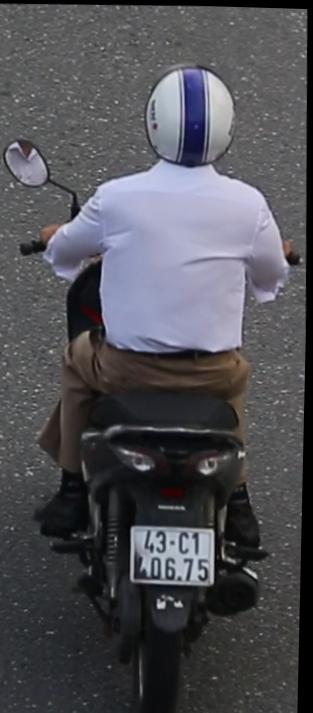LP: (126, 516, 221, 591)
helmet: (142, 55, 242, 175)
